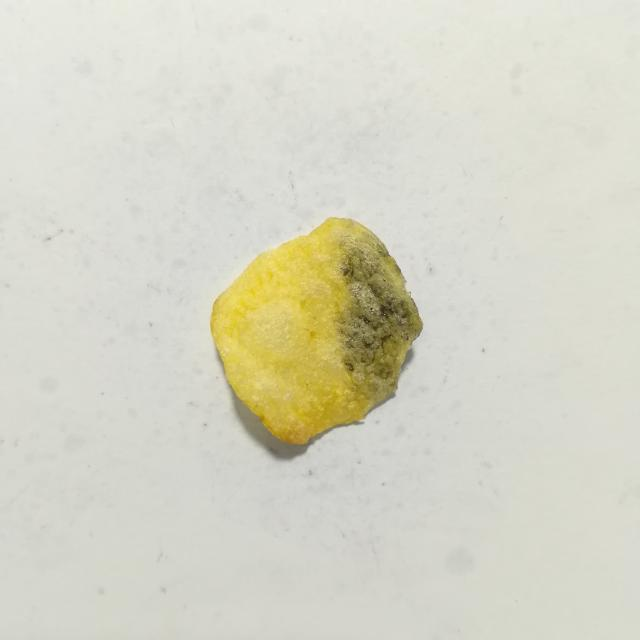chip: (211, 218, 423, 444)
semi-damaged: (336, 220, 423, 403)
